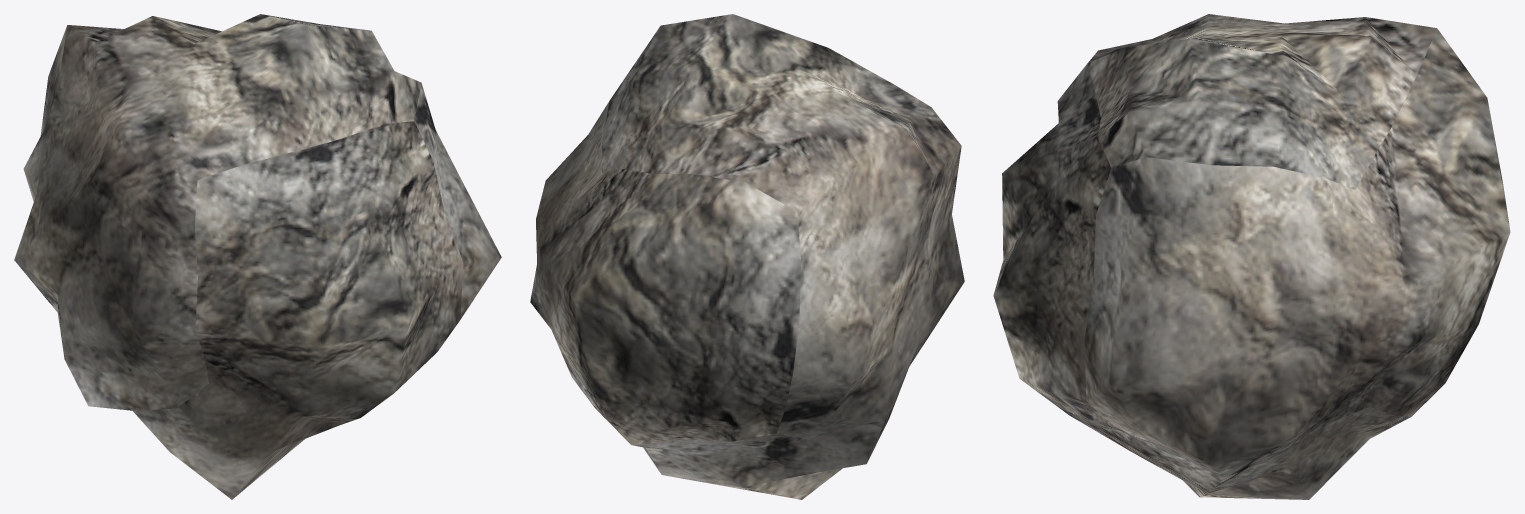
File: rockC.FBX
3 renders of one model, left to right at view 1: azimuth 30°, elevation 25°; view 2: azimuth 150°, elevation 25°; view 3: azimuth 270°, elevation 25°, orthographic. The views are drawn at different scales.
Visible parts, largest first — view 1: rockLP007; view 2: rockLP007; view 3: rockLP007.
Boxes of the visible parts, x1,y1,x2,y2 form: rockLP007: (14, 14, 501, 499); rockLP007: (530, 14, 964, 499); rockLP007: (993, 14, 1510, 499).
Size of the model in its own units: 230 by 278 by 263.
Materials: 1 (1 with a texture image).
